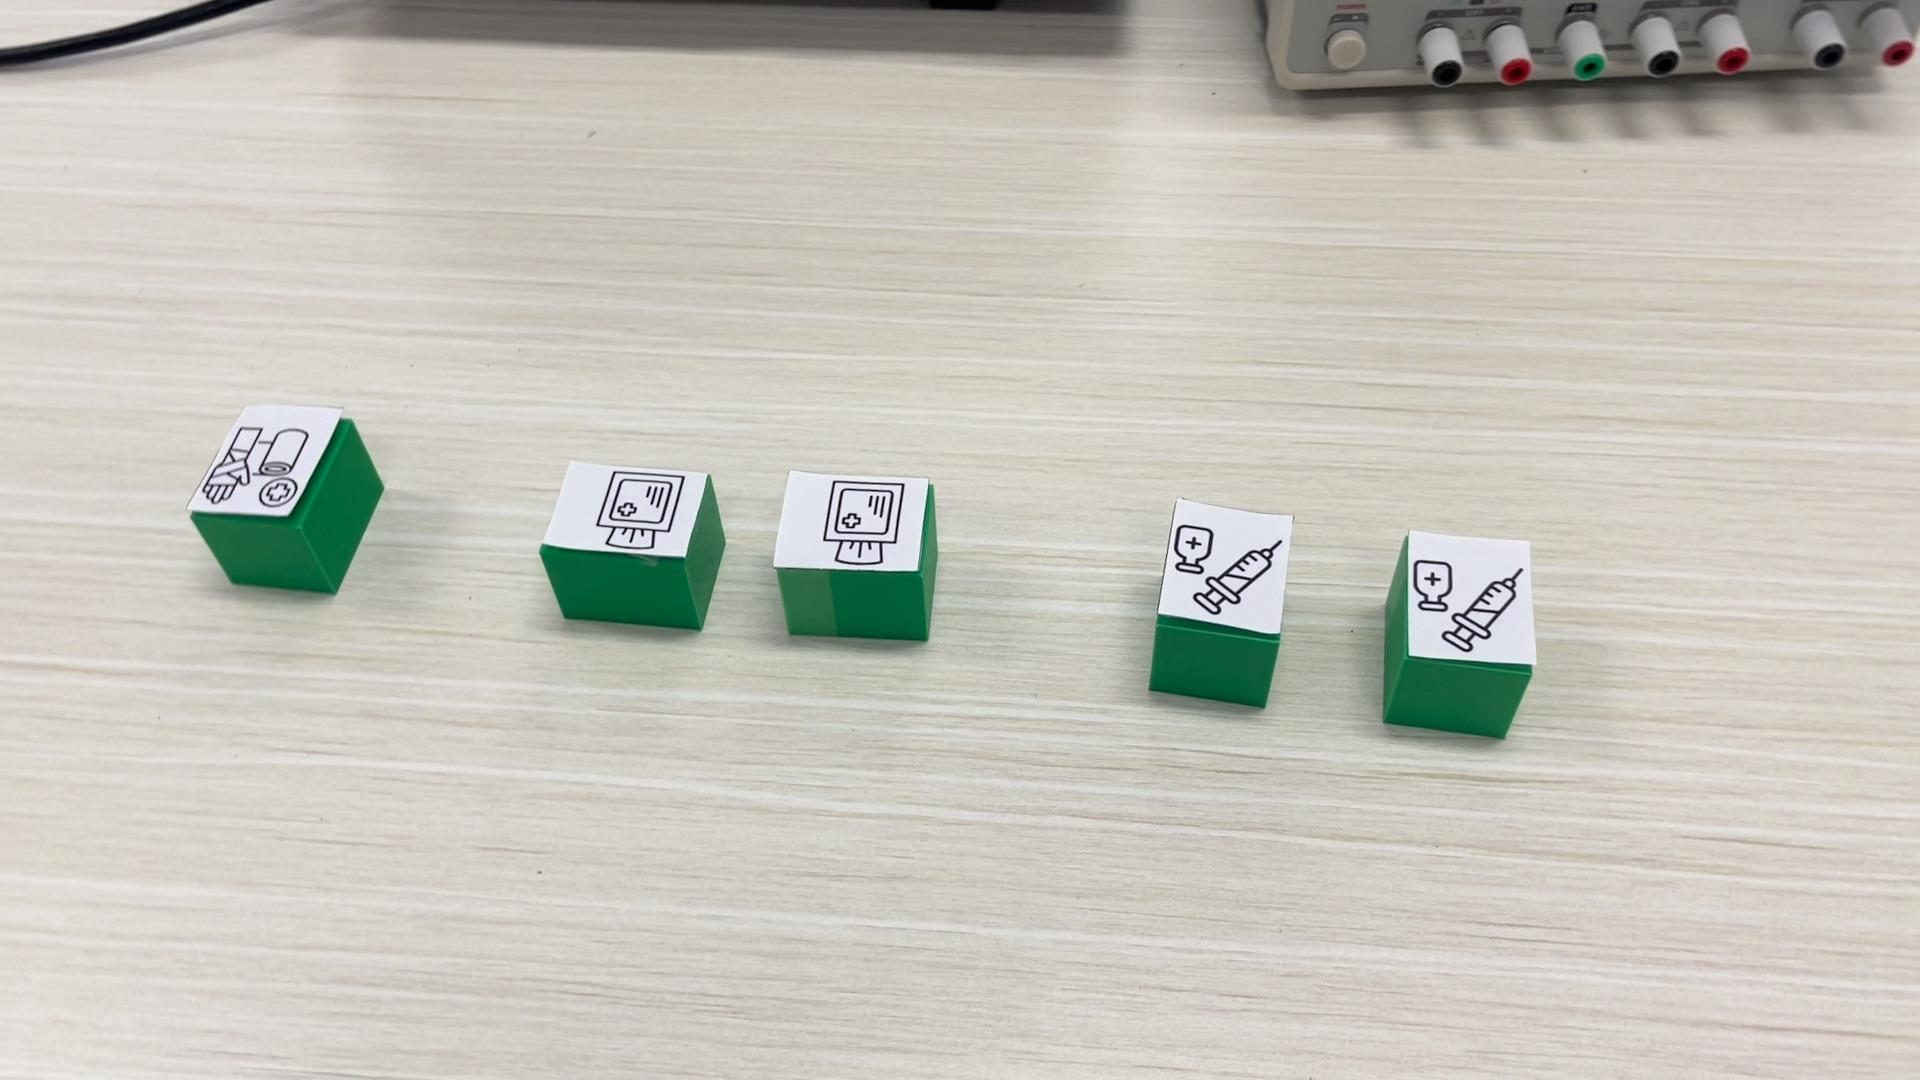Bandages: (189, 400, 384, 593)
Gauze: (541, 459, 724, 632), (770, 468, 936, 641)
antiseptic cream: (1379, 529, 1539, 738), (1149, 496, 1294, 707)
